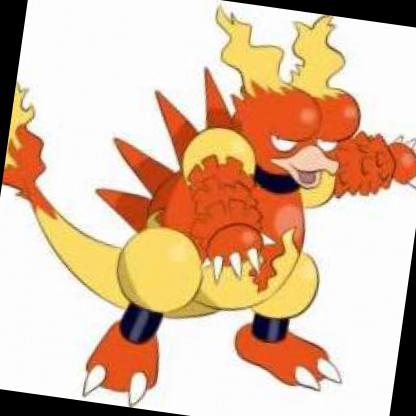Magmar: (19, 1, 416, 400)
